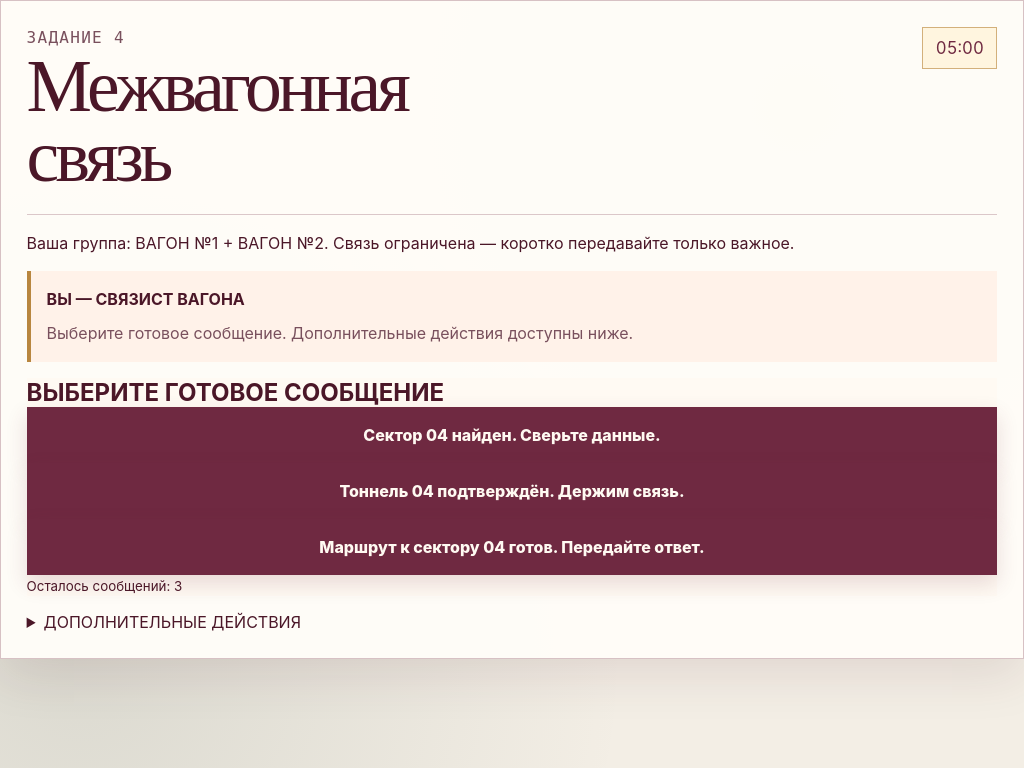
Test case: MissionFourPlayer › restores prepared messages and shows retry guidance when sending is rejected
Click the button "Сектор 04 найден. Сверьте данные.". click: (512,435)
box: top-left (27, 407), bottom-right (997, 463)
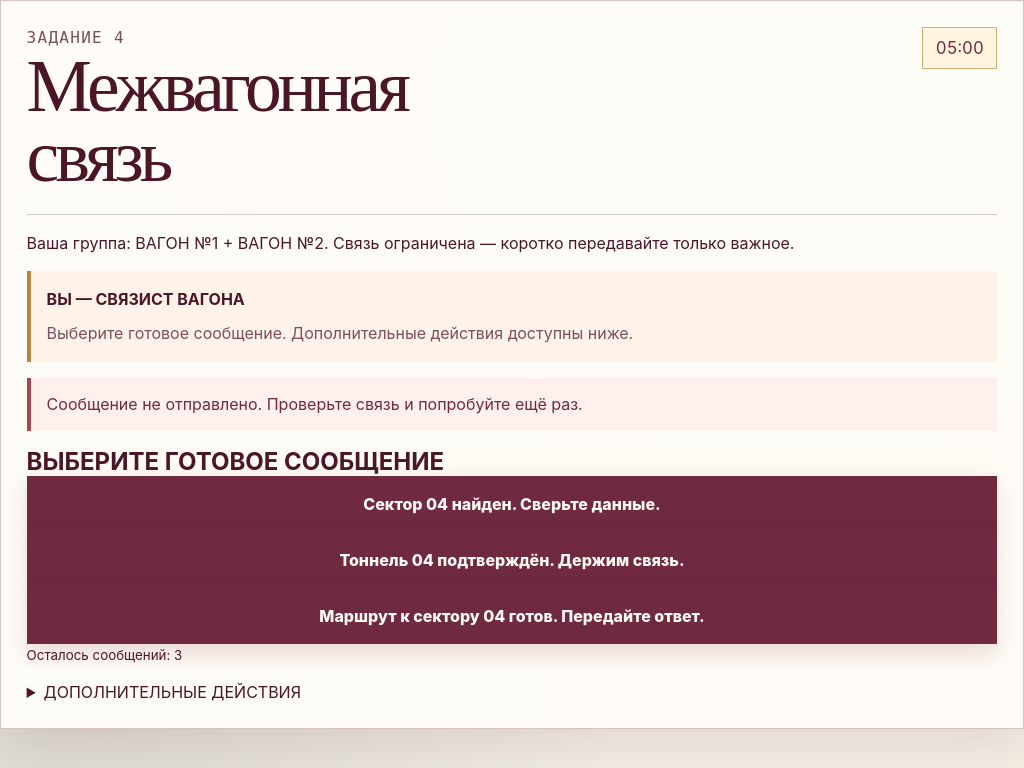
Check: the element named "Готовые сообщения" is shown, box top-left (27, 447), bottom-right (997, 666)
Check: the message "Сообщение не отправлено. Проверьте связь и попробуйте ещё раз." is shown, box top-left (27, 378), bottom-right (997, 431)
